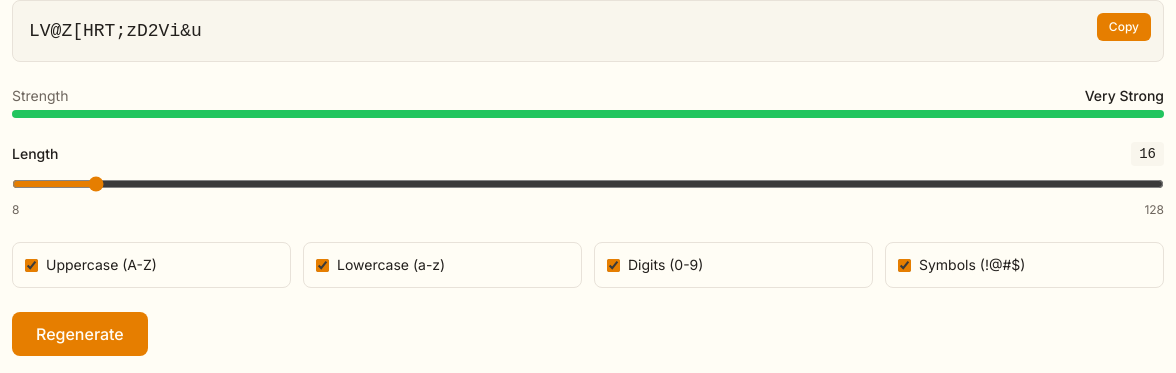
it: PasswordGenerator › shows "Copied!" after copying
The image size is (1176, 373).
Click the button with aria-label "Copy password to clipboard".
click(1124, 27)  # box [1097,13,1151,41]
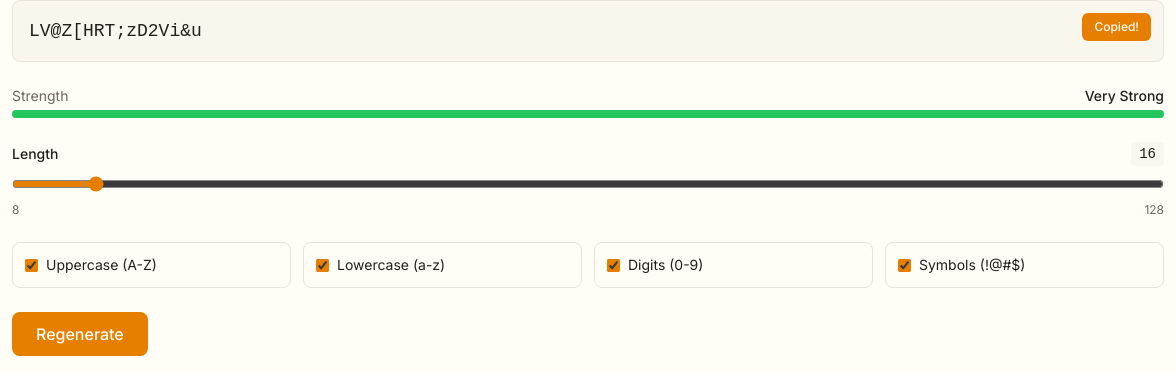
Expected: the button "Copied!" is shown, [1082,13,1151,41]
